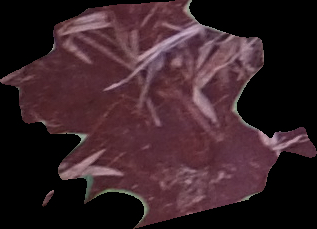soil: (1, 1, 316, 227)
